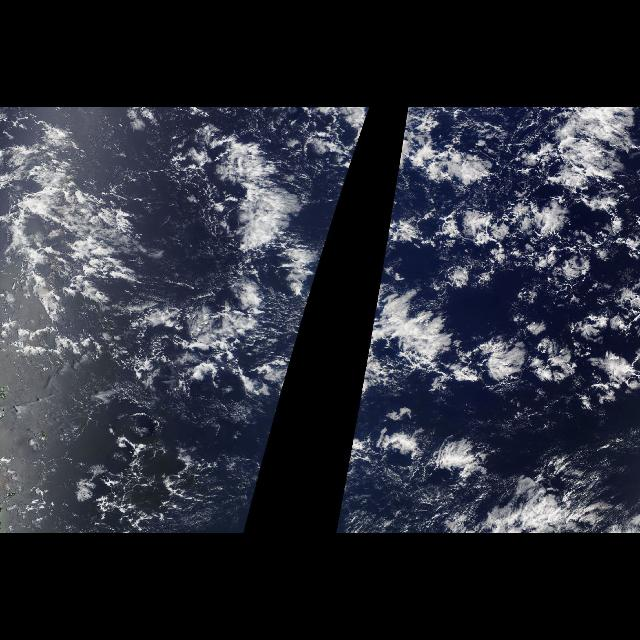Flower: (445, 109, 637, 458)
Sugar: (334, 417, 530, 533), (111, 417, 275, 533)
